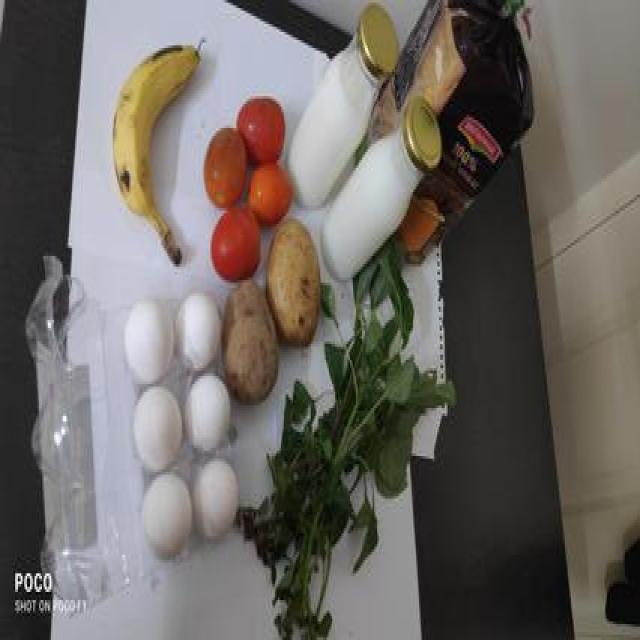Fresh_Spinach: (256, 286, 461, 619)
Fresh_tomato: (210, 217, 261, 281), (244, 162, 296, 220), (204, 130, 242, 194), (239, 110, 286, 160)
